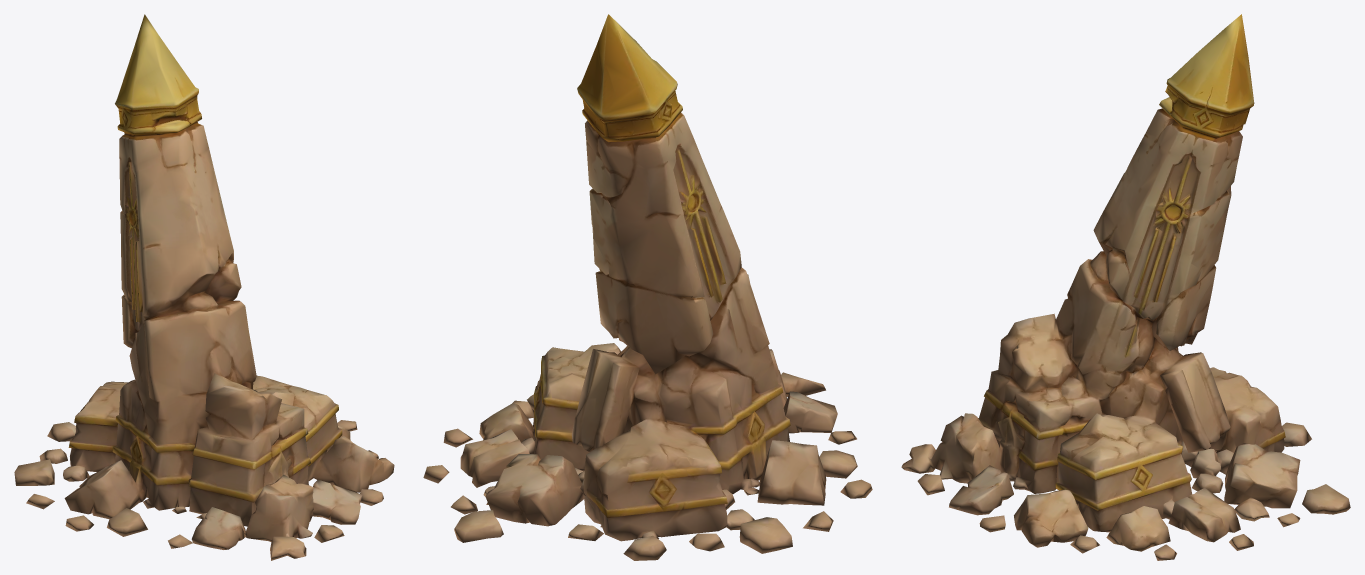
File: prop.glb
The picture shows the model from 3 angles, left to right: view 1: azimuth 30°, elevation 25°; view 2: azimuth 150°, elevation 25°; view 3: azimuth 270°, elevation 25°; orthographic projection. The views are drawn at different scales.
Visible parts, largest first — view 1: tripo_node_5477f361-5fba-4fcf-8248-3d06f7a5ac7a; view 2: tripo_node_5477f361-5fba-4fcf-8248-3d06f7a5ac7a; view 3: tripo_node_5477f361-5fba-4fcf-8248-3d06f7a5ac7a.
Boxes of the visible parts, bbox=[...] form: tripo_node_5477f361-5fba-4fcf-8248-3d06f7a5ac7a: bbox=[14, 14, 394, 560]; tripo_node_5477f361-5fba-4fcf-8248-3d06f7a5ac7a: bbox=[423, 14, 872, 560]; tripo_node_5477f361-5fba-4fcf-8248-3d06f7a5ac7a: bbox=[901, 14, 1350, 560].
Bounding box in the file's own units: 0.7981 × 1 × 0.89.
1 material, 1 textured.
